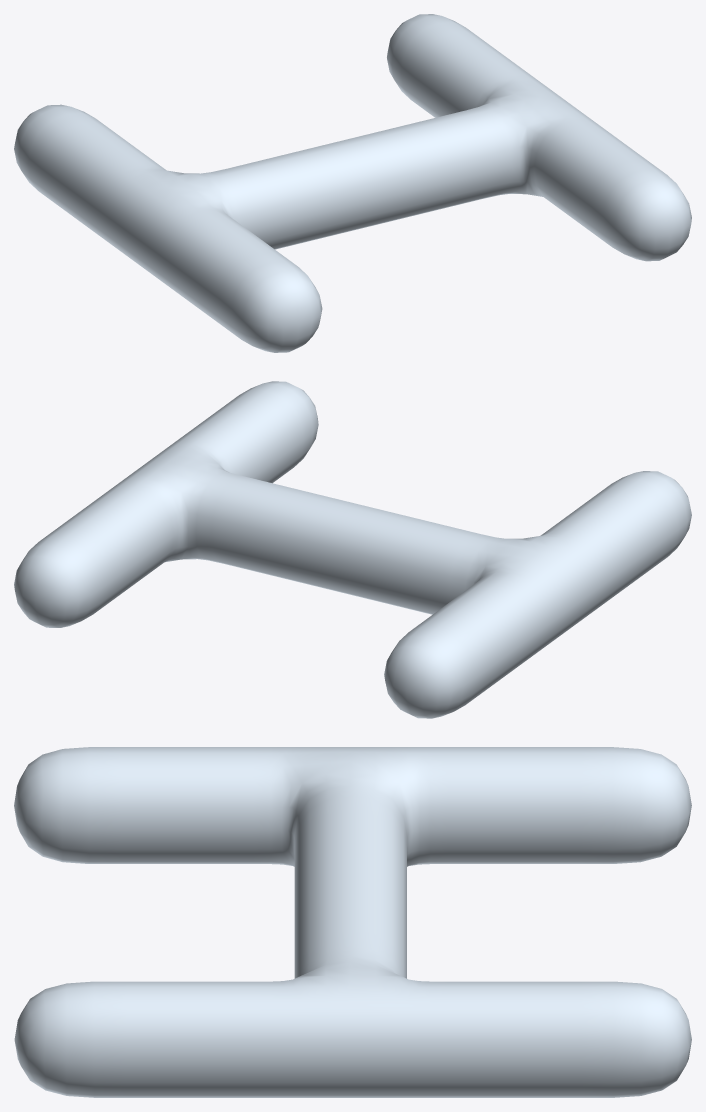
3 views of the same model, one above another, from view 1: azimuth 30°, elevation 25°; view 2: azimuth 150°, elevation 25°; view 3: azimuth 270°, elevation 25° (orthographic). The views are drawn at different scales.
Parts seen in each view (by area): view 1: 04H; view 2: 04H; view 3: 04H.
Boxes of the visible parts, x1,y1,x2,y2 form: 04H: [14, 14, 691, 352]; 04H: [14, 381, 691, 718]; 04H: [14, 747, 691, 1097].
Bounding box in the file's own units: 705 × 127 × 716.
